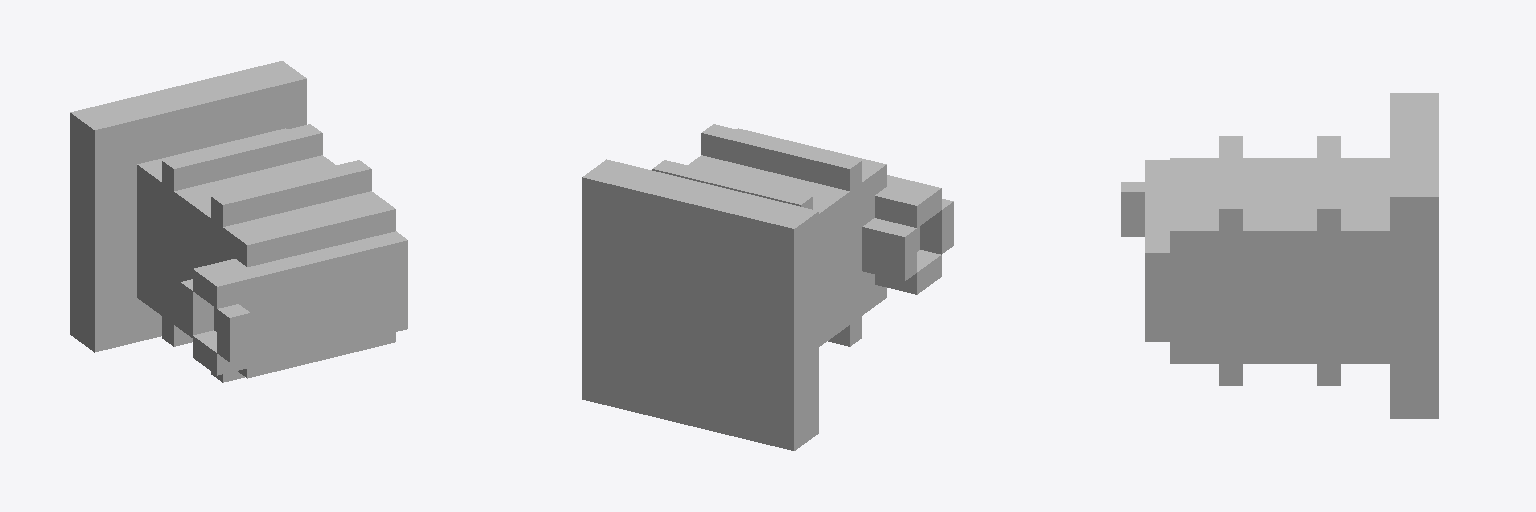
Rendered from TowetTwo.obj.
The picture shows the model from 3 angles: view 1: azimuth 30°, elevation 25°; view 2: azimuth 150°, elevation 25°; view 3: azimuth 270°, elevation 25°; orthographic projection.
Parts seen in each view (by area): view 1: object 1; view 2: object 1; view 3: object 1.
Boxes of the visible parts, x1,y1,x2,y2 form: object 1: [70, 61, 407, 382]; object 1: [582, 124, 953, 450]; object 1: [1121, 93, 1438, 418].
Bounding box in the file's own units: 10 × 10 × 13.